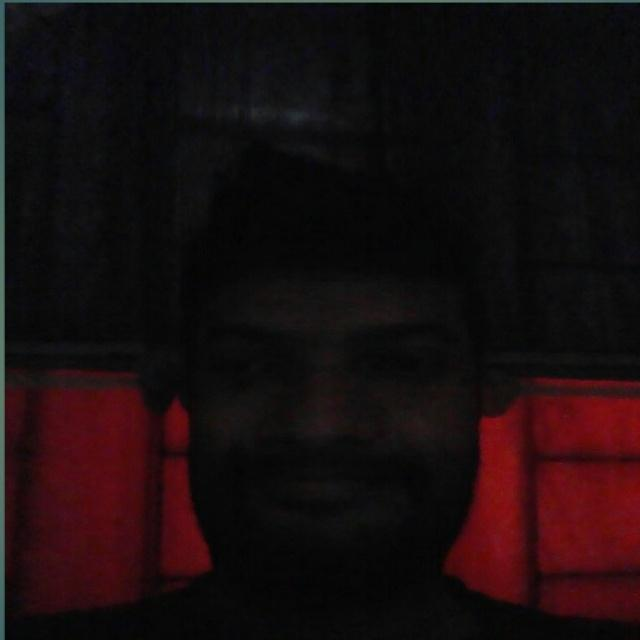Happy: (169, 239, 494, 578)
